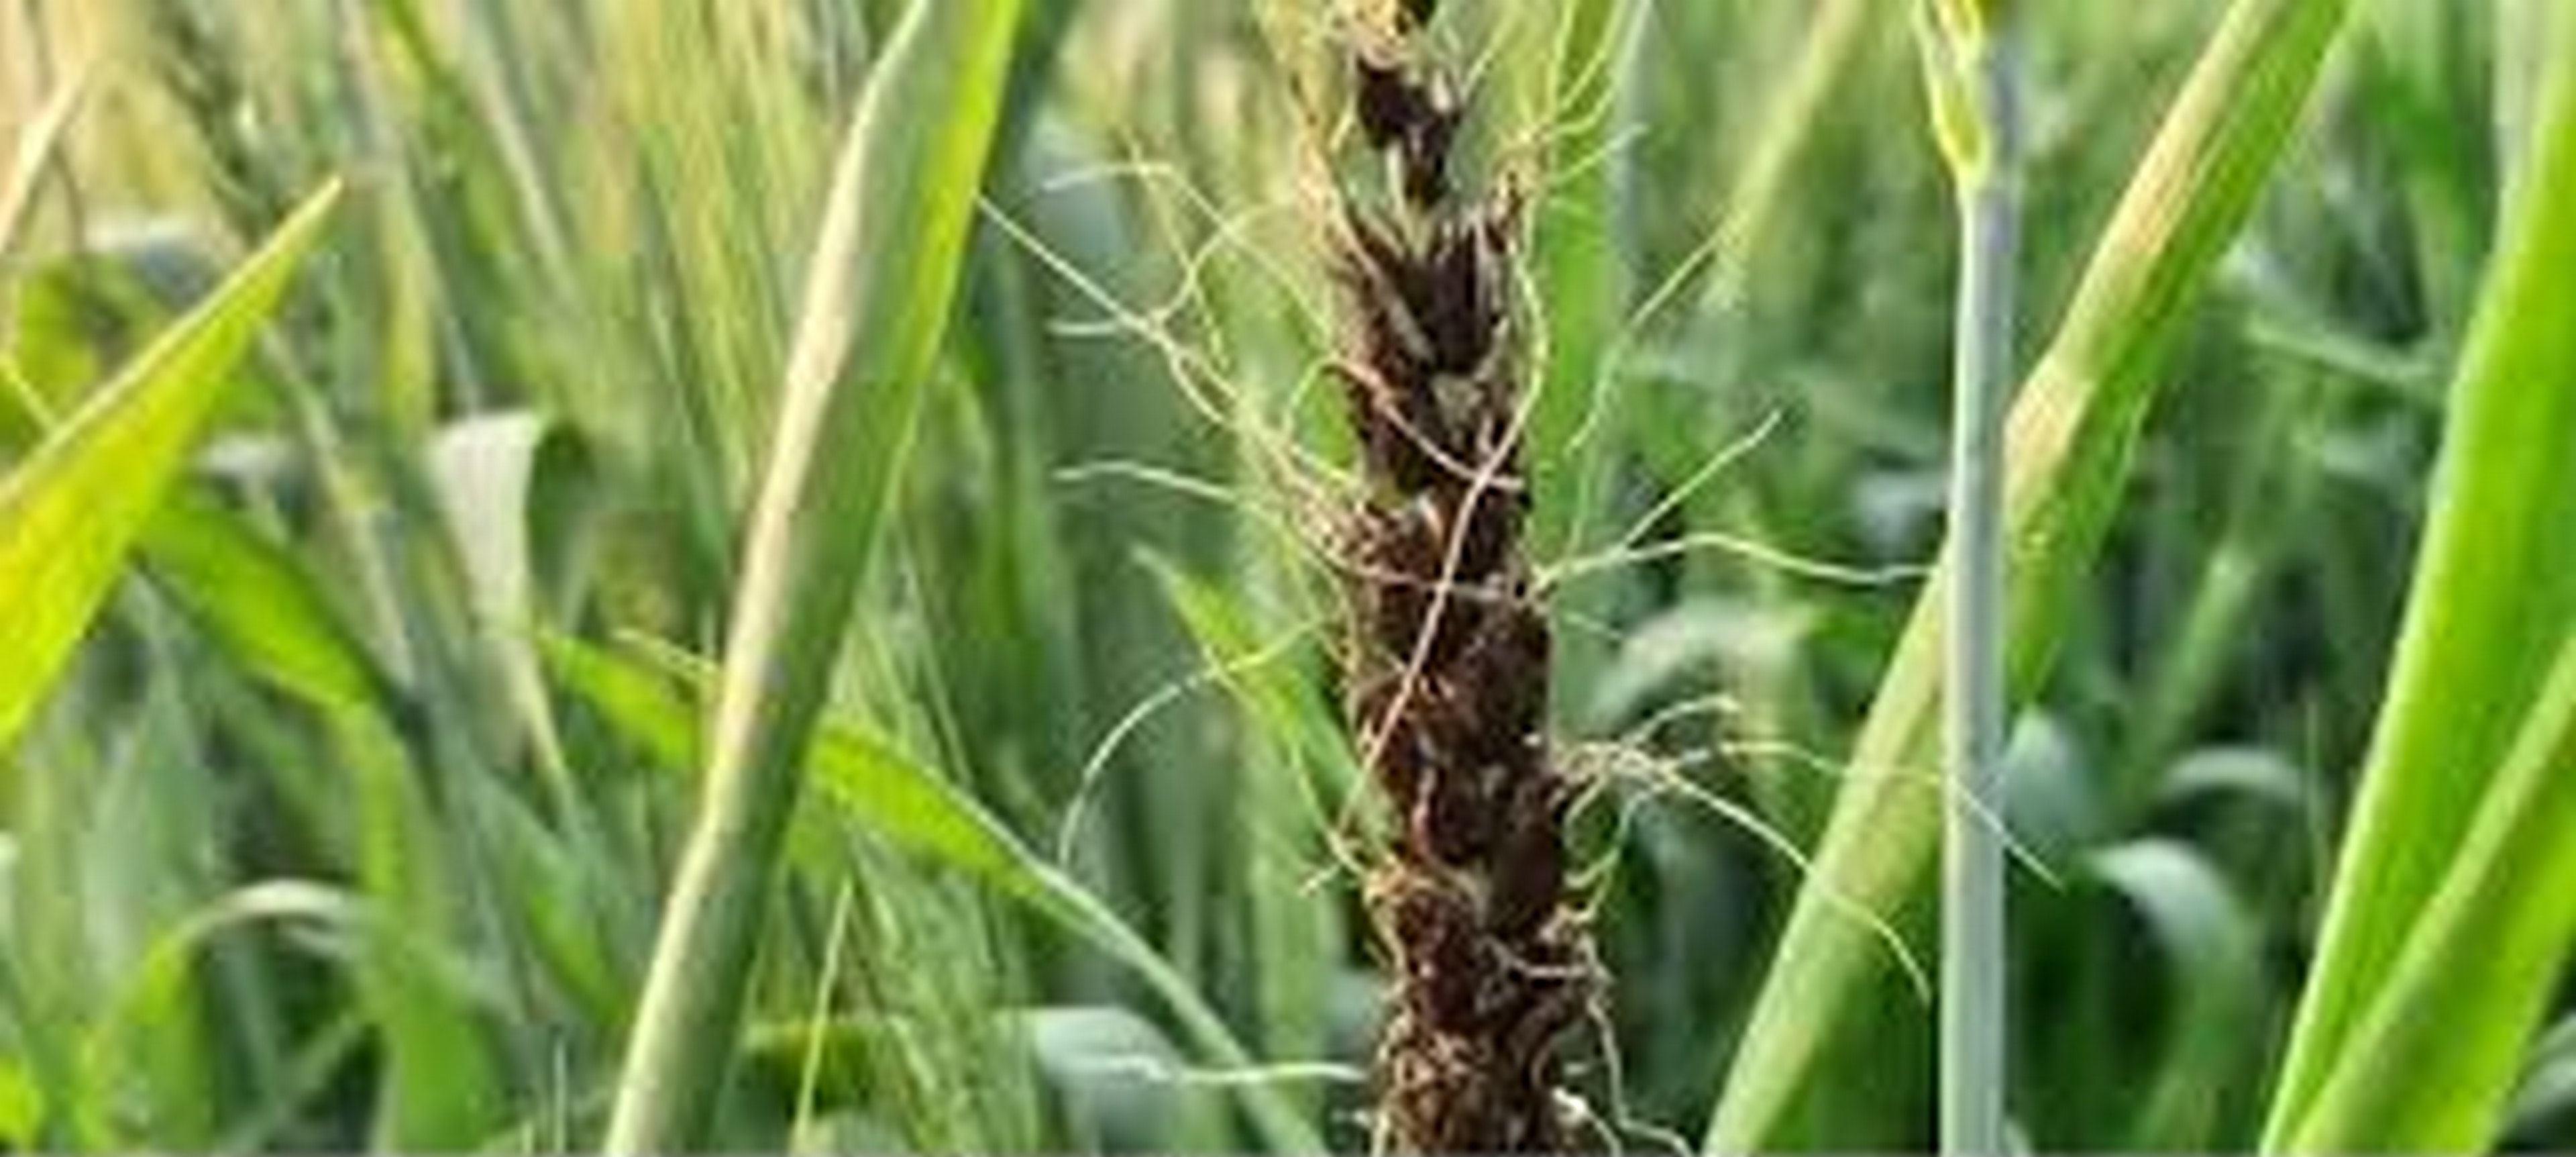Wheat Loose Smut: (1226, 104, 1663, 1155)
